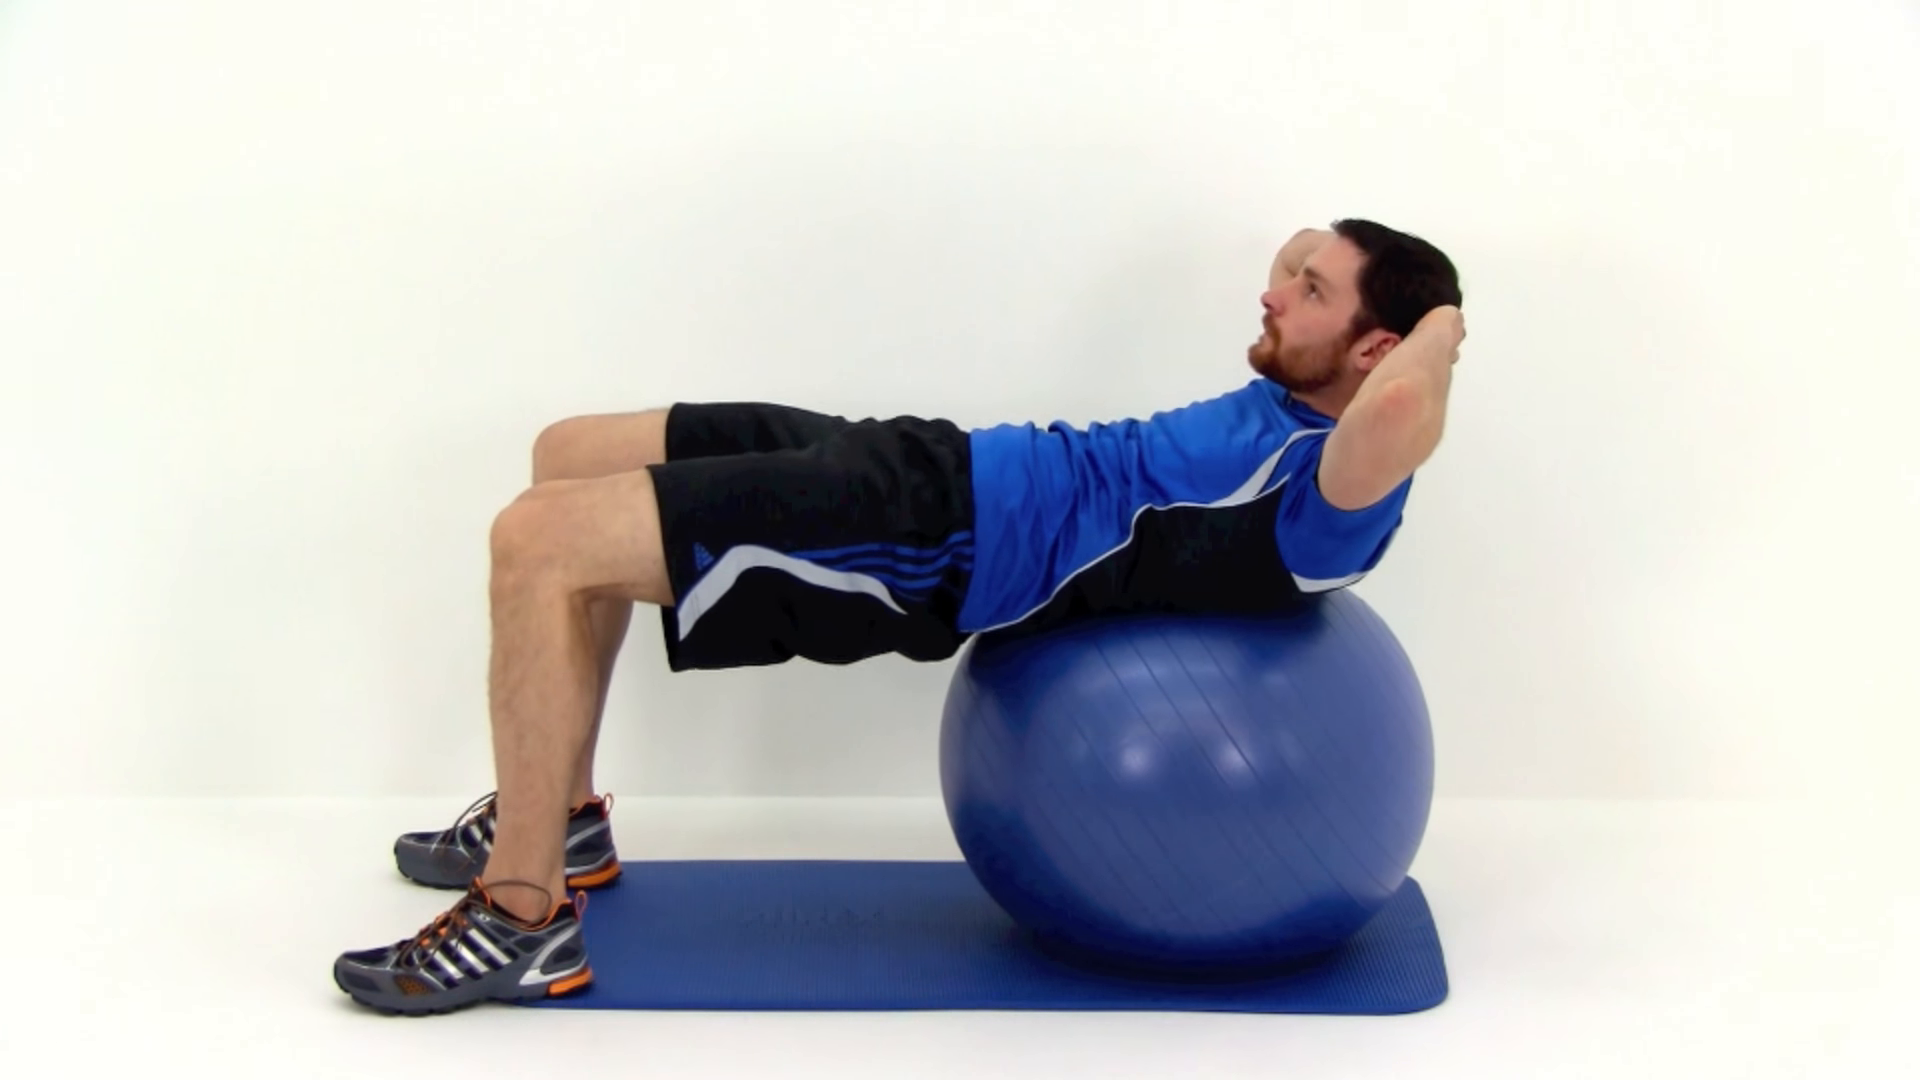yogaball: (924, 553, 1443, 998)
